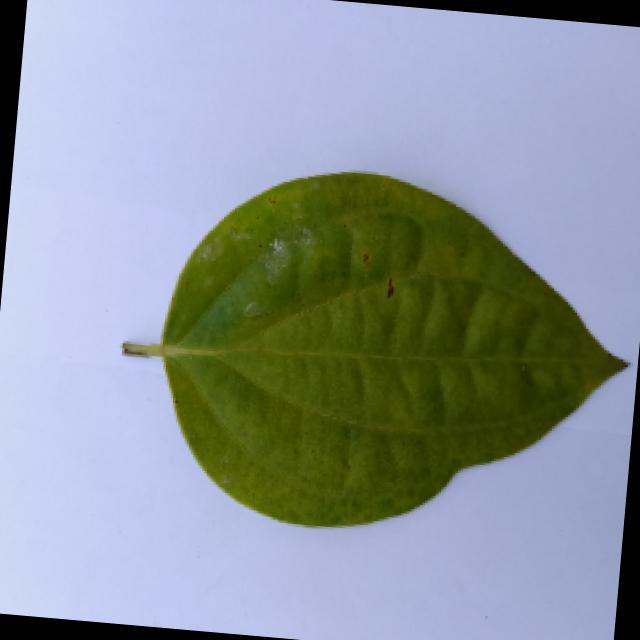slow-decline: (85, 144, 640, 552)
